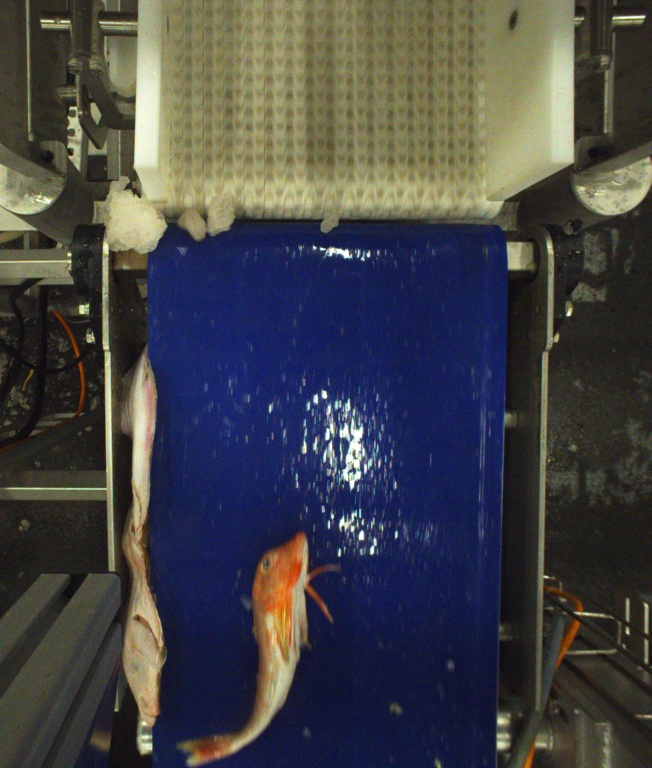GUU: (180, 531, 338, 768)
